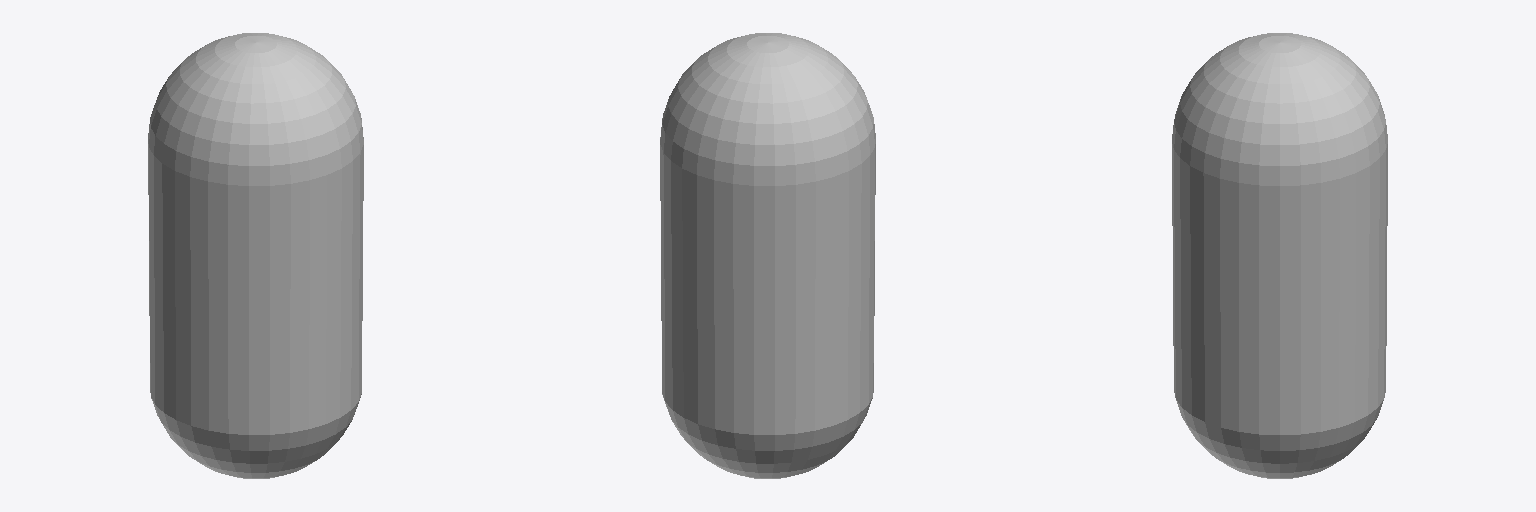
Rendered from player.obj.
The picture shows the model from 3 angles: view 1: azimuth 30°, elevation 25°; view 2: azimuth 150°, elevation 25°; view 3: azimuth 270°, elevation 25°; orthographic projection.
Visible parts, largest first — view 1: Sphere; view 2: Sphere; view 3: Sphere.
Boxes of the visible parts, x1=… form: Sphere: x1=148, y1=33, x2=363, y2=478; Sphere: x1=660, y1=33, x2=875, y2=478; Sphere: x1=1172, y1=33, x2=1387, y2=478.
Size of the model in its own units: 2 by 4.35 by 2.